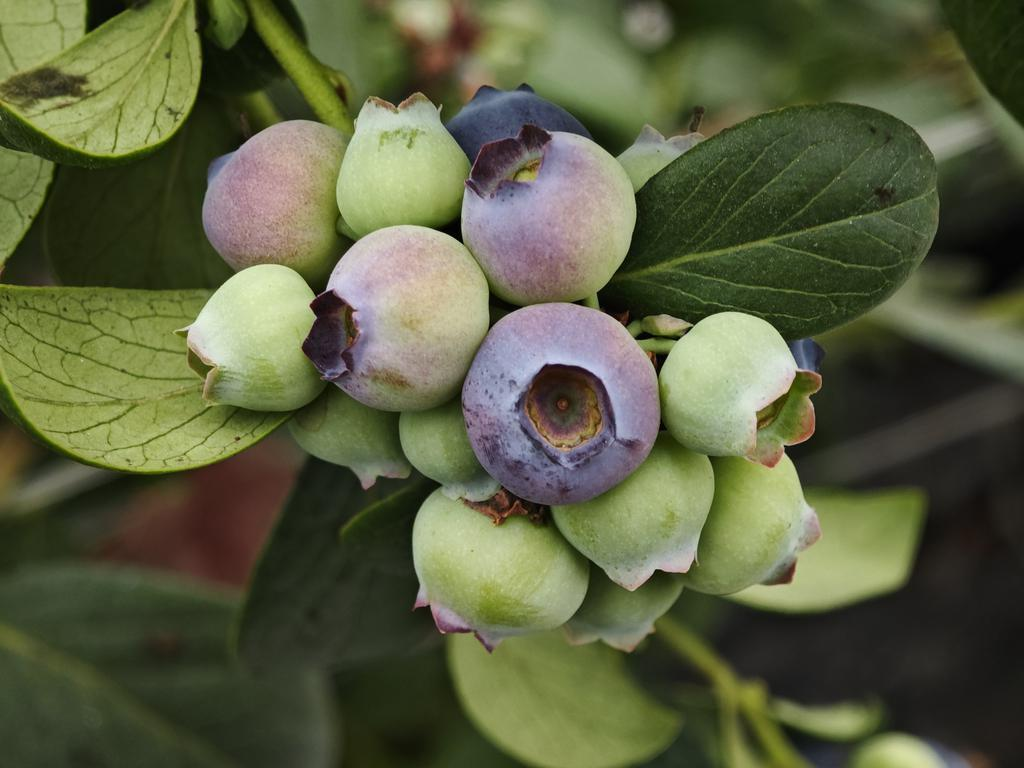Semi-RipeBlueBerry: (459, 299, 662, 508), (312, 222, 492, 413), (460, 124, 640, 302)
